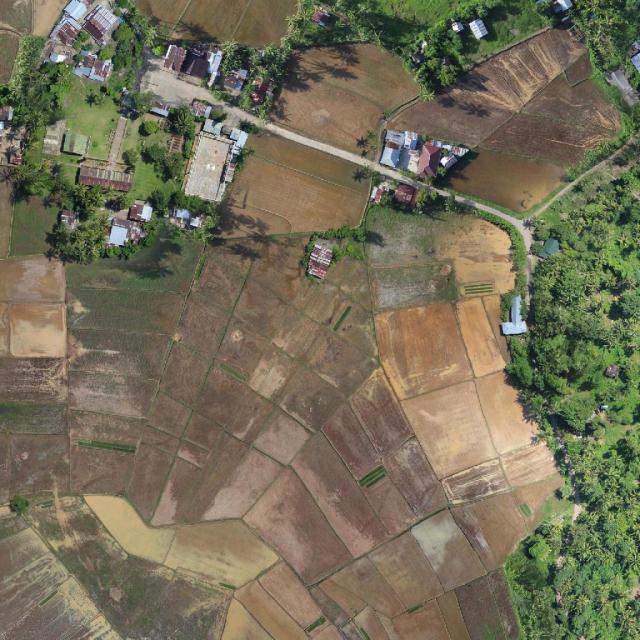agricultural_land: (351, 187, 559, 515), (381, 18, 631, 231), (113, 358, 314, 567), (272, 367, 462, 563), (326, 498, 537, 640), (265, 16, 429, 170), (214, 127, 378, 276), (240, 467, 365, 593), (242, 470, 363, 591), (164, 503, 285, 598), (444, 142, 568, 222), (72, 481, 180, 571), (66, 229, 203, 293), (450, 482, 538, 575), (197, 445, 284, 537), (254, 343, 349, 422), (66, 284, 183, 336), (297, 325, 378, 400), (67, 327, 170, 379), (227, 277, 302, 347), (258, 559, 325, 632), (115, 442, 176, 520), (188, 240, 253, 312), (65, 371, 157, 420), (323, 247, 391, 311), (172, 293, 232, 360), (248, 237, 307, 305), (65, 445, 135, 501), (210, 317, 272, 379), (9, 434, 69, 497), (153, 344, 212, 406), (307, 580, 367, 640), (512, 474, 574, 530), (335, 302, 394, 358), (9, 302, 66, 358), (0, 358, 67, 402), (67, 411, 144, 447), (144, 393, 193, 440), (302, 278, 348, 327), (0, 403, 67, 434), (140, 425, 181, 455)
building: (376, 124, 469, 189), (182, 117, 249, 205), (162, 43, 224, 86), (77, 1, 124, 48), (72, 48, 115, 87), (303, 235, 339, 280), (77, 165, 134, 193), (0, 106, 26, 166), (48, 12, 84, 50), (108, 217, 147, 248), (41, 116, 67, 157), (502, 296, 526, 334), (62, 132, 90, 156), (222, 68, 248, 91), (63, 0, 89, 22), (129, 201, 153, 223), (468, 17, 490, 40)
greenland: (49, 212, 108, 264)
metalled_road: (264, 121, 411, 185), (455, 181, 540, 250), (264, 121, 373, 171)
